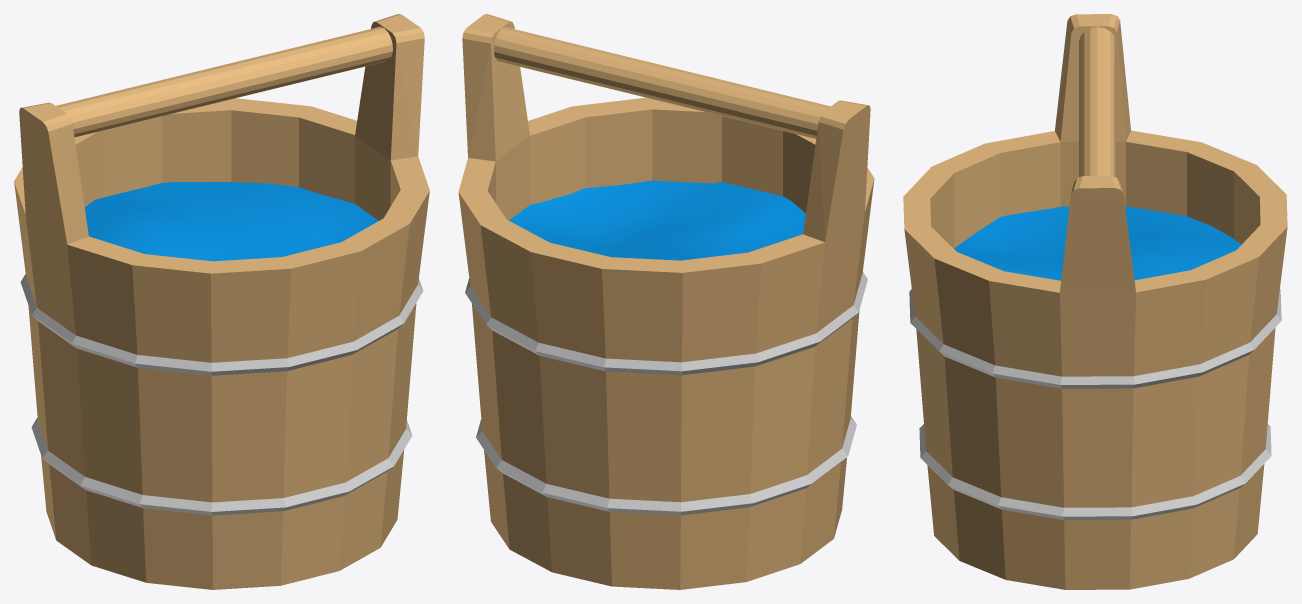
The model's file is Bucket.glb.
The picture shows the model from 3 angles, left to right: view 1: azimuth 30°, elevation 25°; view 2: azimuth 150°, elevation 25°; view 3: azimuth 270°, elevation 25°; orthographic projection. The views are drawn at different scales.
Parts seen in each view (by area): view 1: Plane; view 2: Plane; view 3: Plane.
Boxes of the visible parts, bbox=[...] form: Plane: bbox=[14, 14, 429, 589]; Plane: bbox=[458, 14, 874, 589]; Plane: bbox=[903, 14, 1287, 589].
Bounding box in the file's own units: 0.9994 × 1.12 × 0.9312.
